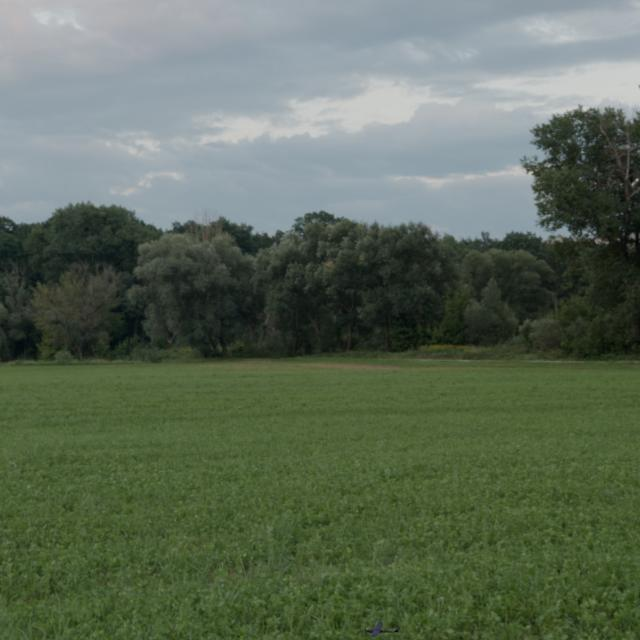Airaplan: (365, 621, 401, 637)
